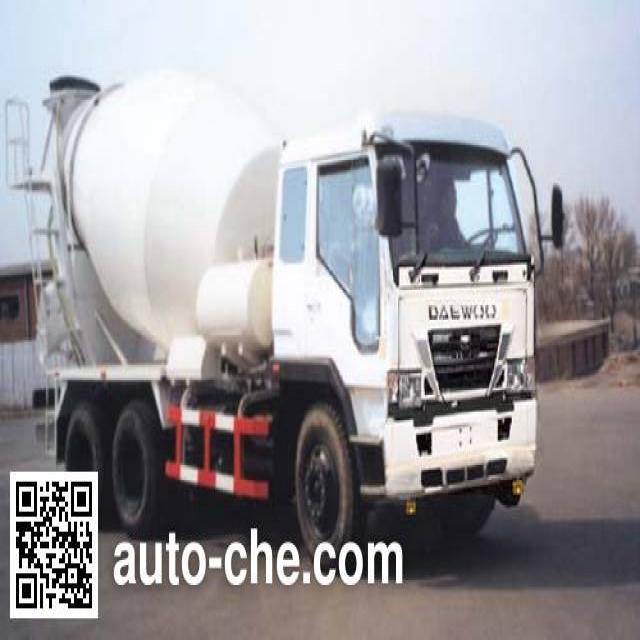Mixer Truck: (5, 68, 566, 575)
